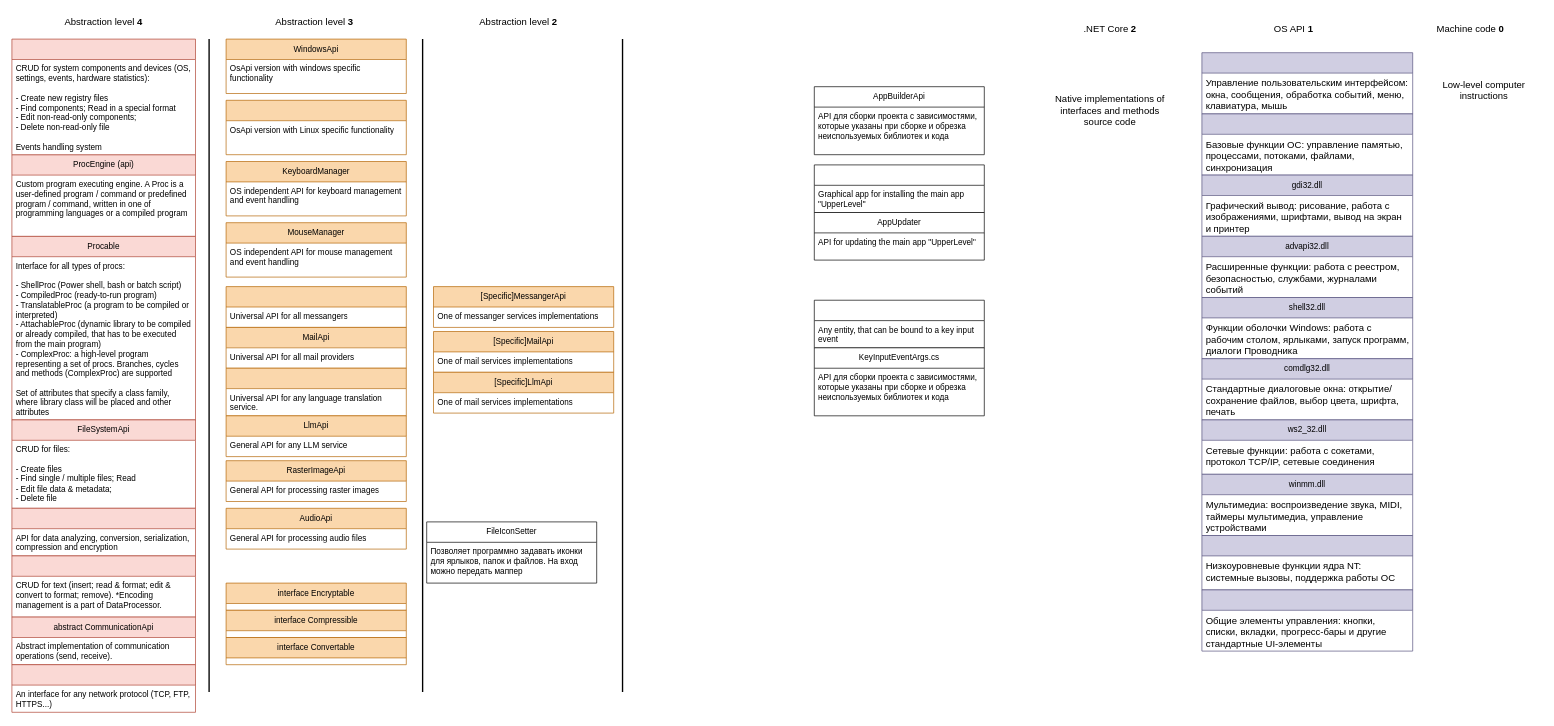
The diagram is 1554 pixels wide and 726 high, and some of its shapes have lost their labels. Each missing label, with the box of its shape:
abstract NetworkApi: (11, 664, 196, 712)
abstract OsApi: (11, 38, 196, 155)
AppInstaller: (814, 164, 984, 213)
comctl32.dll: (1201, 589, 1413, 651)
DataProcessor (api): (11, 508, 196, 556)
interface KeyInputBindable: (814, 300, 984, 348)
kernel32.dll: (1201, 113, 1413, 175)
LinuxApi: (225, 100, 406, 155)
MessangerApi: (225, 286, 406, 327)
ntdll.dll: (1201, 535, 1413, 590)
TextProcessor (api): (11, 555, 196, 617)
TranslationApi: (225, 368, 406, 416)
user32.dll: (1201, 52, 1413, 114)
